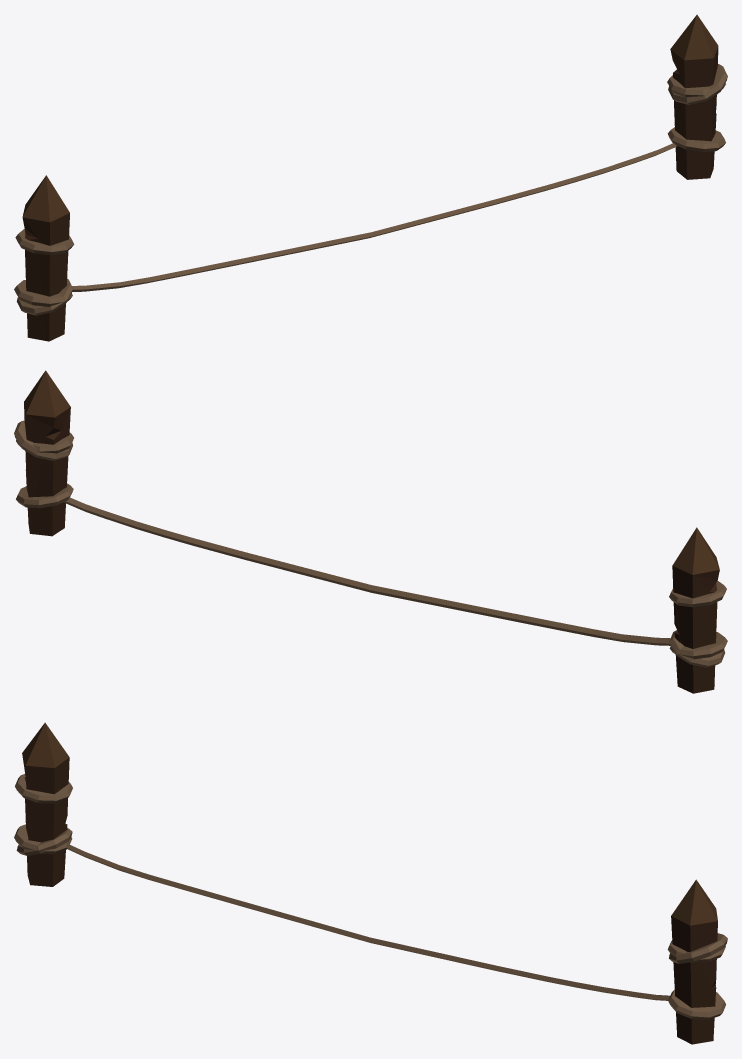
The model's file is Cave_Lair_Wooden_Timber_Suspension_Rope_02.fbx.
The picture shows the model from 3 angles, top to bottom: view 1: azimuth 30°, elevation 25°; view 2: azimuth 150°, elevation 25°; view 3: azimuth 330°, elevation 25°; orthographic projection.
Visible parts, largest first — view 1: Cave_Lair_Wooden_Timber_Suspension_Rope_02; view 2: Cave_Lair_Wooden_Timber_Suspension_Rope_02; view 3: Cave_Lair_Wooden_Timber_Suspension_Rope_02.
Boxes of the visible parts, <box> form: Cave_Lair_Wooden_Timber_Suspension_Rope_02: <box>14,14,727,341</box>; Cave_Lair_Wooden_Timber_Suspension_Rope_02: <box>14,370,727,693</box>; Cave_Lair_Wooden_Timber_Suspension_Rope_02: <box>14,722,727,1044</box>.
Size of the model in its own units: 14.01 by 3 by 1.09.
